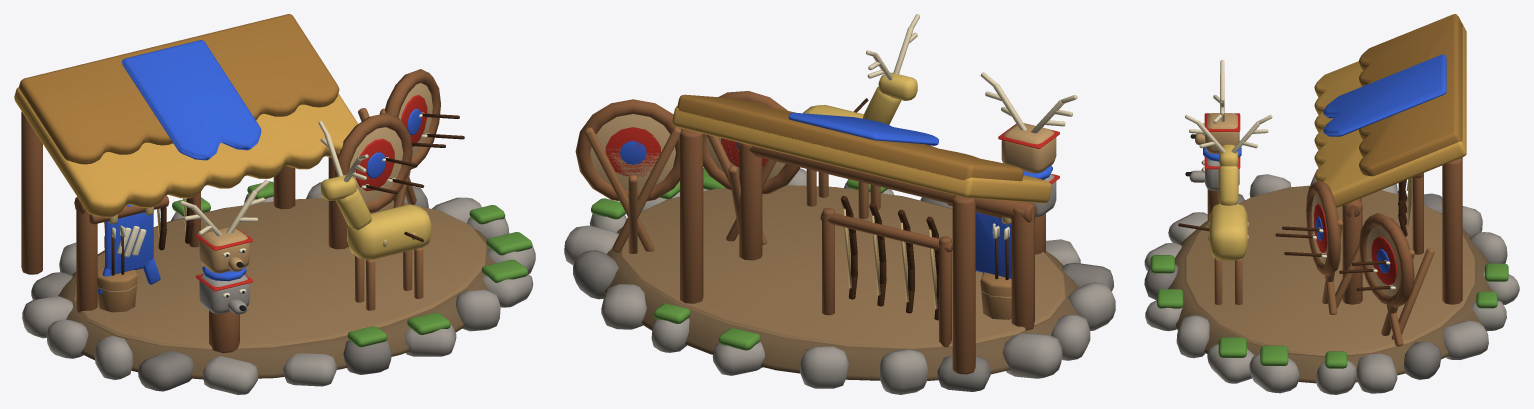
The model's file is Range.glb.
3 views of the same model, side by side, from view 1: azimuth 30°, elevation 25°; view 2: azimuth 150°, elevation 25°; view 3: azimuth 270°, elevation 25° (orthographic). The views are drawn at different scales.
Parts seen in each view (by area): view 1: Range; view 2: Range; view 3: Range.
Part boxes in pixels (x1=…): Range: x1=14, y1=14, x2=535, y2=394; Range: x1=564, y1=14, x2=1115, y2=394; Range: x1=1144, y1=14, x2=1519, y2=394.
Size of the model in its own units: 3.81 by 1.78 by 2.97.
